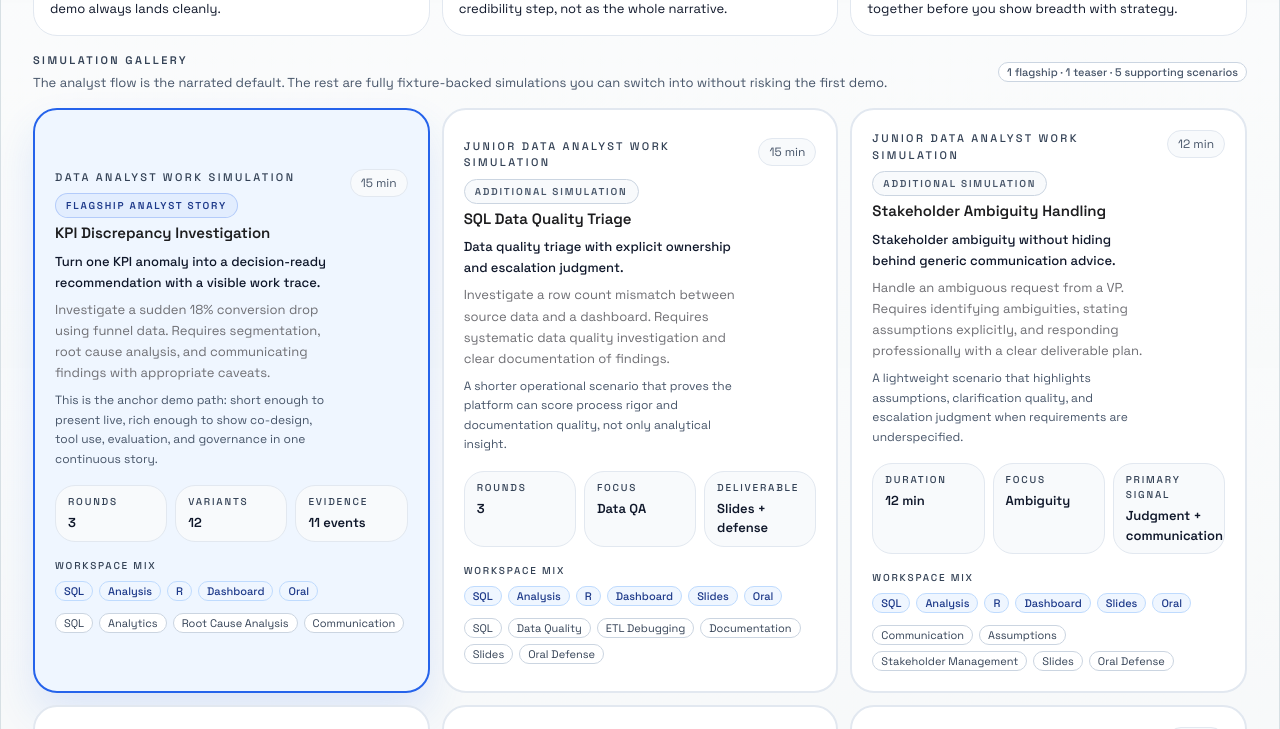
Scenario: DemoConsole template selection › marks junior analyst scenarios as requiring slides and oral defense
(page scrolled)
Click the button named "SQL Data Quality Triage" at (640, 401), box x1=442 y1=108 x2=838 y2=694
(page scrolled)
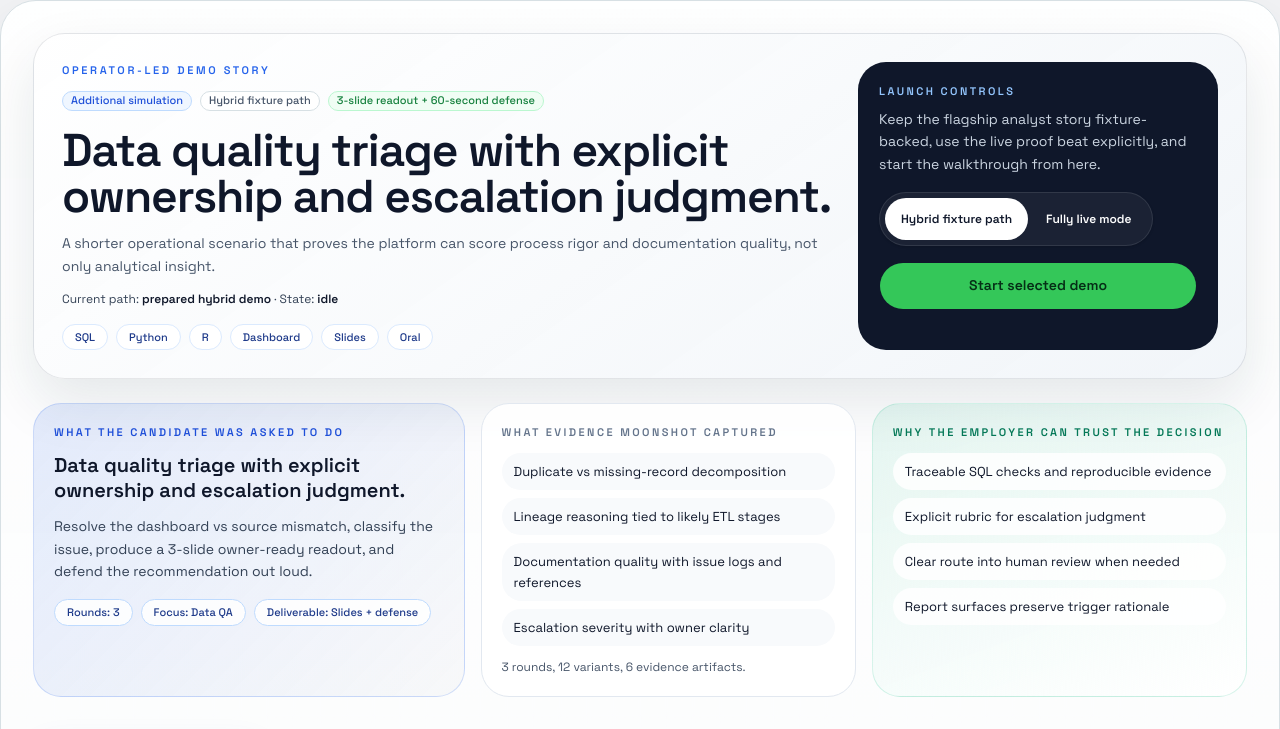
Expected: the text "Oral" is shown, x1=387 y1=324 x2=434 y2=350
Now the text "3-slide readout + 60-second defense" is shown, box x1=328 y1=90 x2=544 y2=110
Now the text "Slides" is shown, box x1=321 y1=324 x2=379 y2=350
